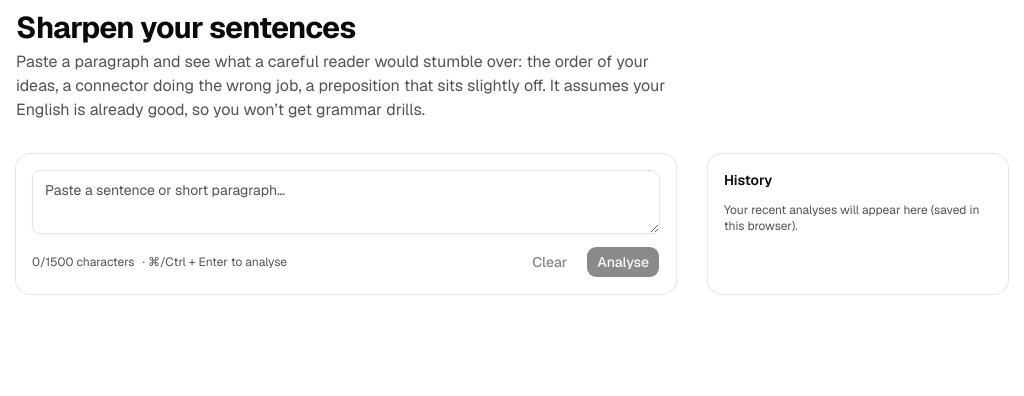
Test: error handling › reports a network failure
The image size is (1024, 396).
Type "The cat sat" into the text box.
click(346, 202); type("The cat sat")  # box 32,170 -> 660,234
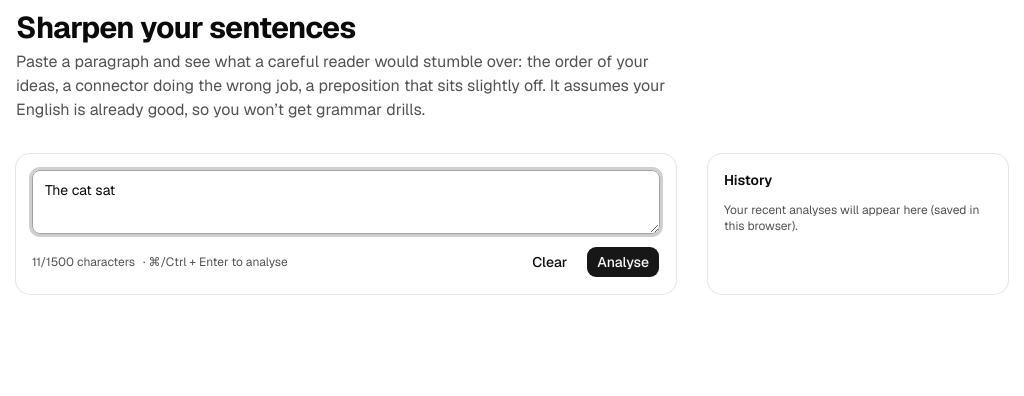
Click the button "Analyse".
click(623, 262)  # box 586,246 -> 660,278
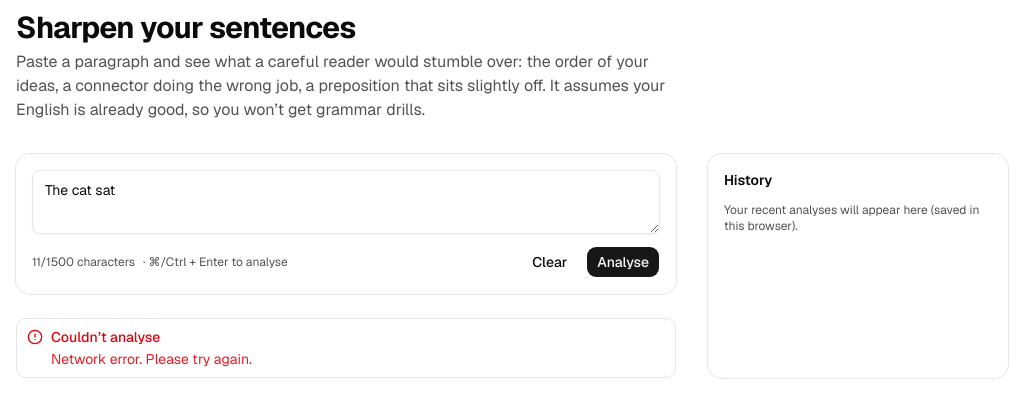
Expected: the text "Network error. Please try again." is shown, 51,350 -> 252,368
